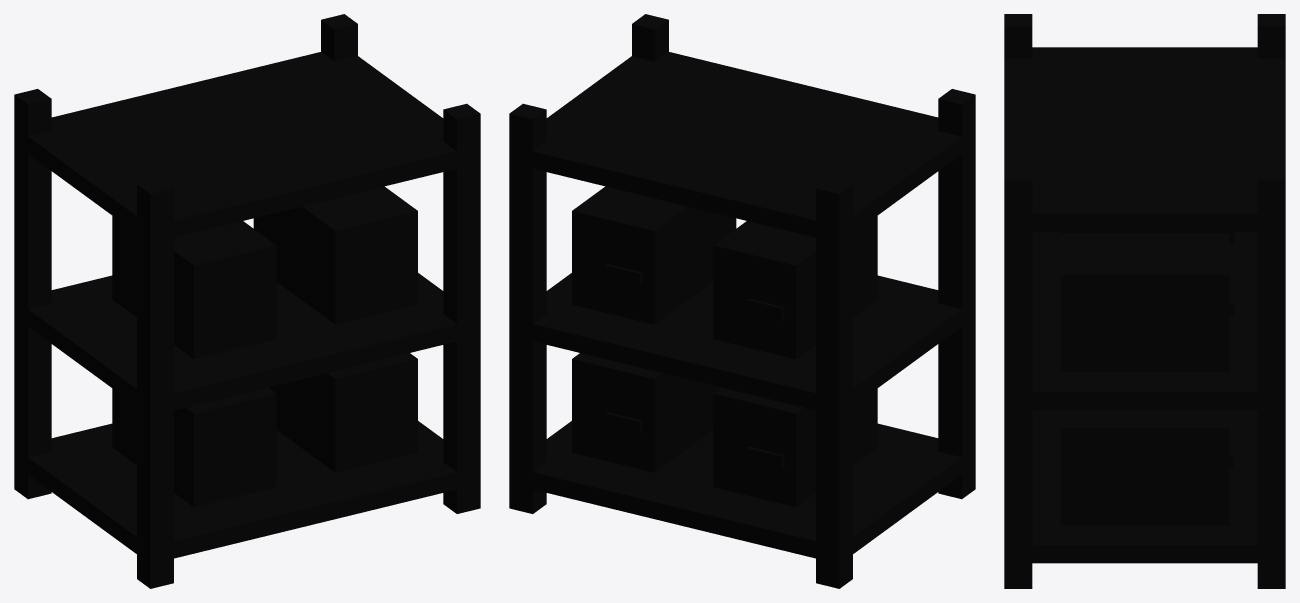
File: lab_shelf.obj
3 views of the same model, side by side, from view 1: azimuth 30°, elevation 25°; view 2: azimuth 150°, elevation 25°; view 3: azimuth 270°, elevation 25° (orthographic). The views are drawn at different scales.
Bounding box in the file's own units: 0.875 × 1 × 0.625.
